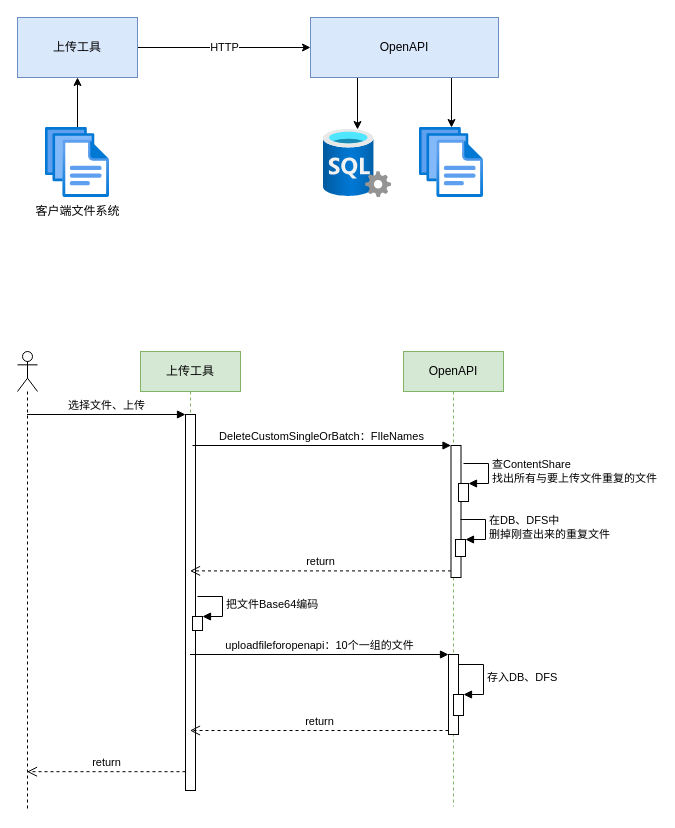
The diagram is 675 pixels wide and 828 high, and some of its shapes have lost their labels. The centre of each missing label's shape, as x and y in pixels:
ContentShare: the point at 357,163
DFS: the point at 451,162
